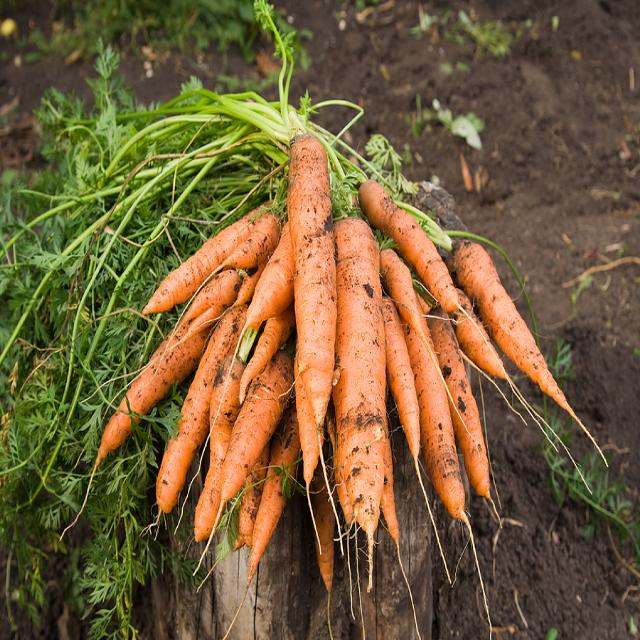carrot: (191, 345, 292, 546), (128, 266, 251, 414), (146, 209, 287, 316), (359, 180, 466, 314)
